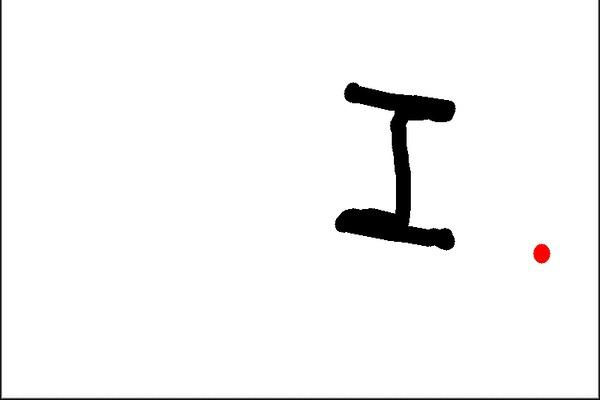i: (327, 70, 469, 256)
